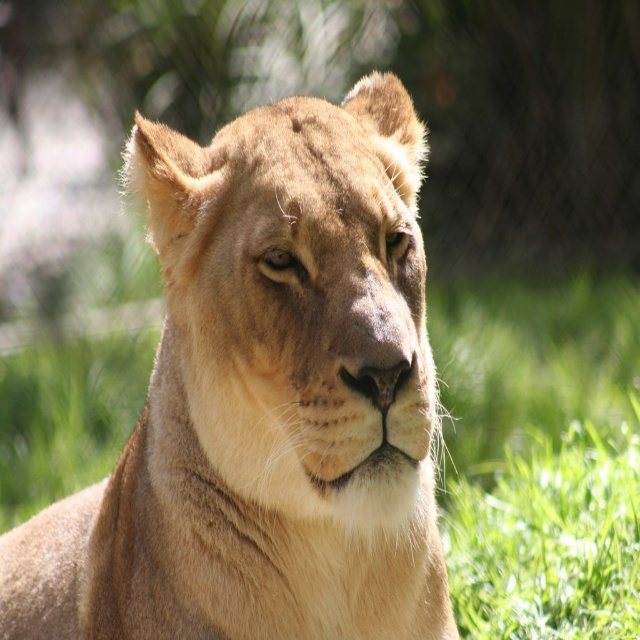Lion: (0, 69, 463, 640)
